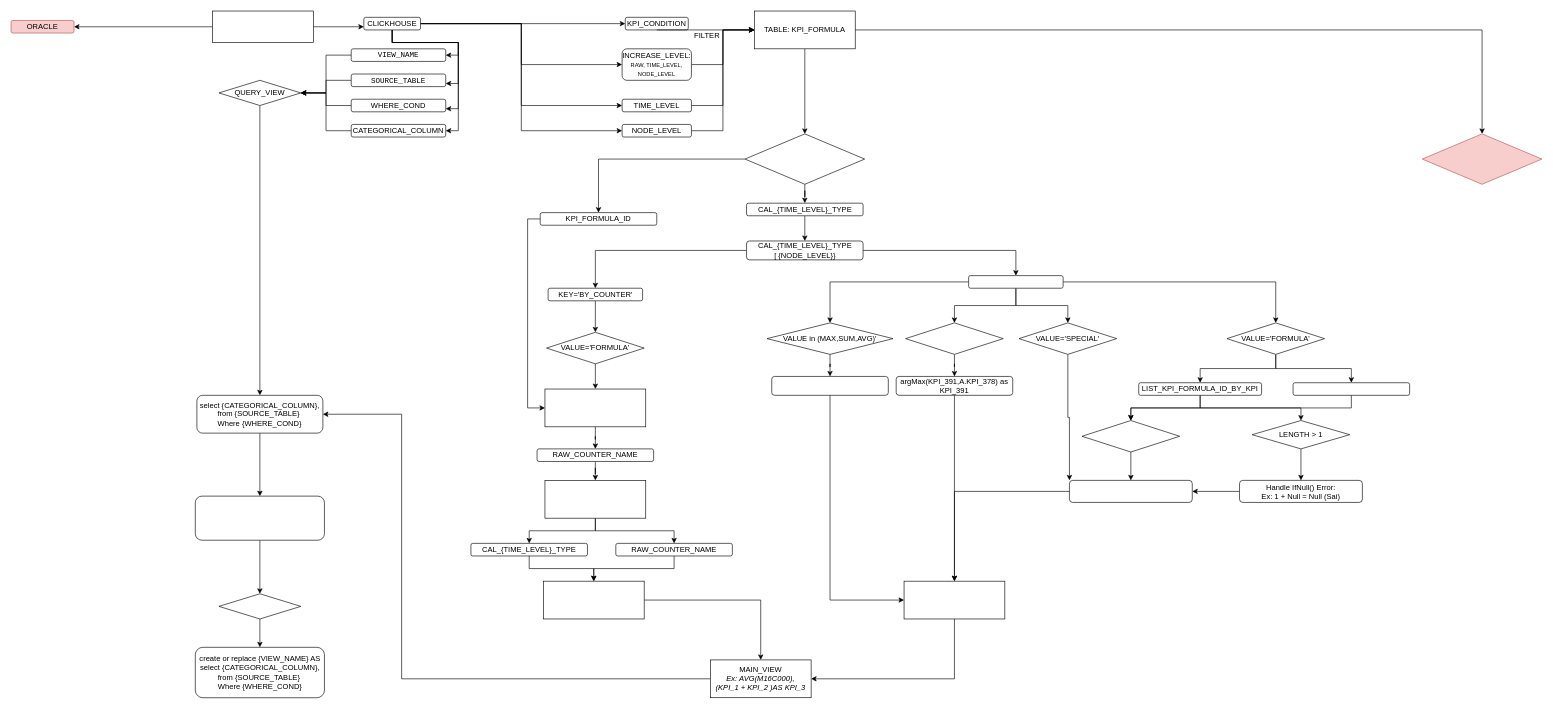
The diagram is 1553 pixels wide and 709 high, and some of its shapes have lost their labels. The shapes that lost their labels are listed below. From the top down, each one's box as (x1, y1, x2, y2) in pixels, then its label:
(212, 10, 313, 43): TABLE: BUILD_VIEW
(744, 133, 865, 184): INCREASE_LEVEL in (RAW,TIME_LEVEL)
(1422, 133, 1542, 184): INCREASE_LEVEL = NODE_LEVEL
(968, 275, 1063, 288): KEY='BY_KPI'
(905, 322, 1003, 354): VALUE='argMax'
(771, 376, 888, 395): MAX({KPI_FORMULA_ID}) as KPI_{KPI_FORMULA_ID}
(1292, 382, 1410, 395): KPI_FORMULA_BY_KPI
(544, 388, 646, 427): TABLE: KPI_COUNTER
(1081, 420, 1180, 452): LENGTH = 1
(544, 480, 646, 518): TABLE: RAW_COUNTER_HEADER
(1069, 480, 1192, 502): {LIST_KPI_FORMULA_ID_BY_KPI} as KPI_{KPI_FORMULA_ID}
(195, 495, 324, 540): select {CATEGORICAL_COLUMN}, {MAIN_VIEW} from {SOURCE_TABLE} Where {WHERE_COND}
(218, 593, 301, 619): CREATE_VIEW
(543, 581, 644, 619): COUNTER_FUNCTIONS Ex: AVG(M16C000)
(903, 581, 1005, 619): KPI_FUNCTIONS Ex: KPI_1 + KPI_2 (= KPI_3)
